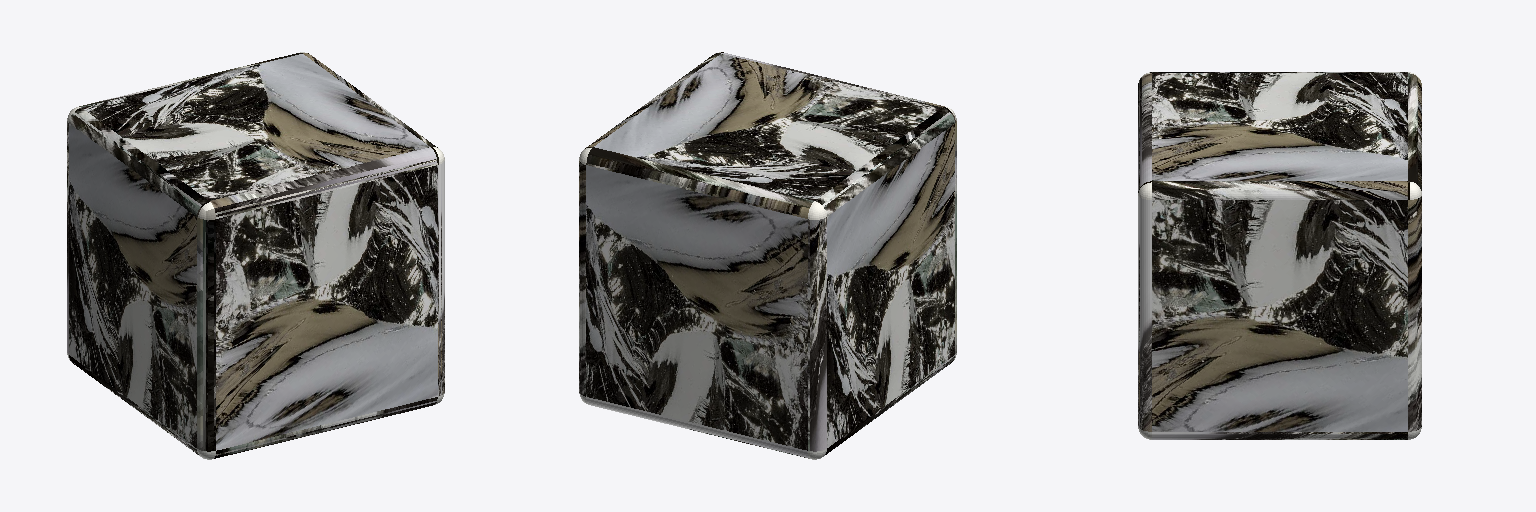
The picture shows the model from 3 angles: view 1: azimuth 30°, elevation 25°; view 2: azimuth 150°, elevation 25°; view 3: azimuth 270°, elevation 25°; orthographic projection.
Parts seen in each view (by area): view 1: Cube; view 2: Cube; view 3: Cube.
Part boxes in pixels (x1,y1,x2,y2): Cube: (67,52,444,459); Cube: (579,52,956,459); Cube: (1138,72,1421,439).
Bounding box in the file's own units: 2 × 2 × 2.
Materials: 1 (1 with a texture image).